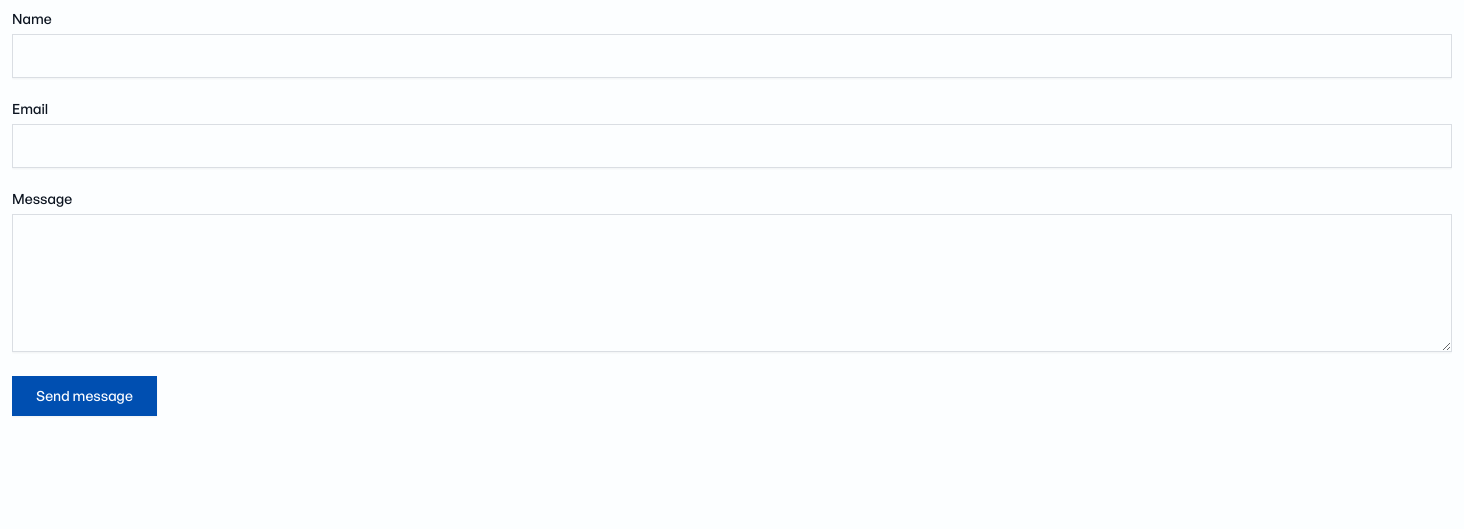
Test: ContactForm › routes a valid submission to the contact confirmation heading
The image size is (1464, 529).
Expected: the button "Send message" is shown, x1=12 y1=376 x2=157 y2=416
Type "Ada Lovelace" into the field labelled "Name" at (732,56), box x1=12 y1=34 x2=1452 y2=78
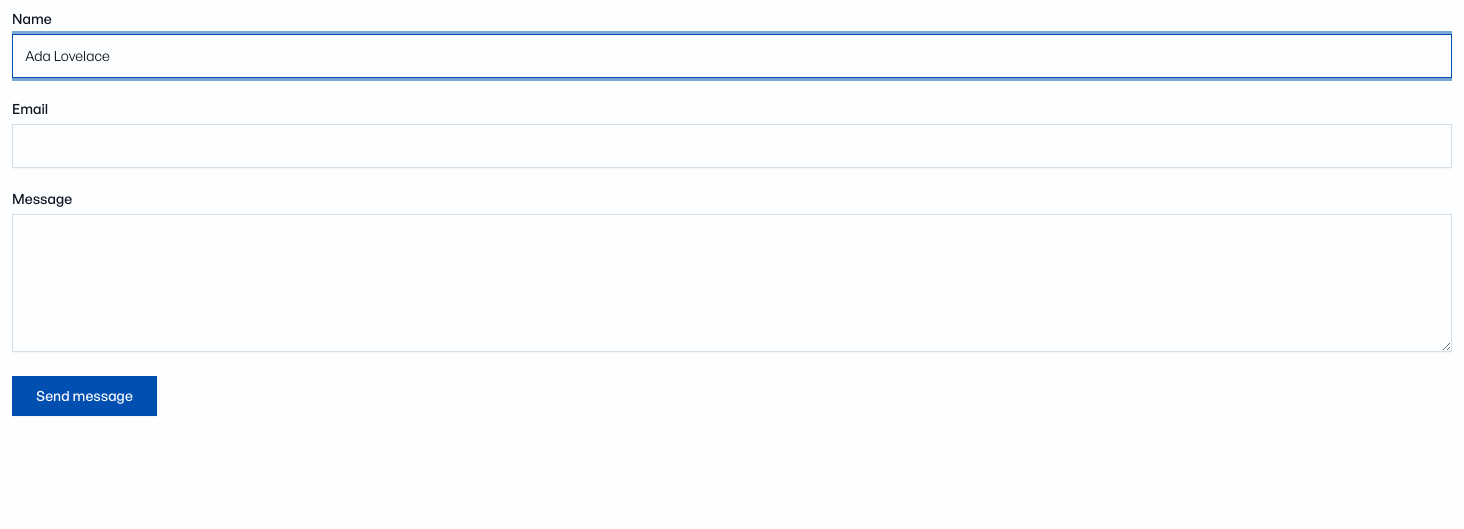
Expected: the button "Send message" is shown, x1=12 y1=376 x2=157 y2=416
Type "ada@example.com" into the field labelled "Email" at (732,146), box x1=12 y1=124 x2=1452 y2=168
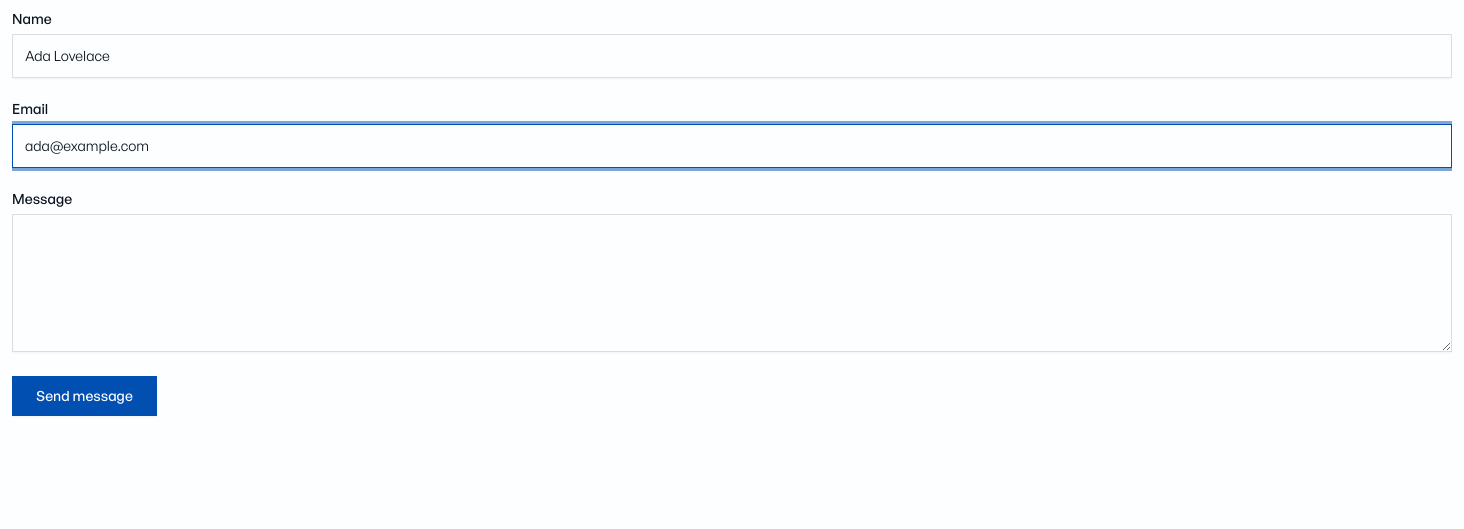
Type "I would like to learn more about your products." into the text box labelled "Message" at (732,283), box x1=12 y1=214 x2=1452 y2=352
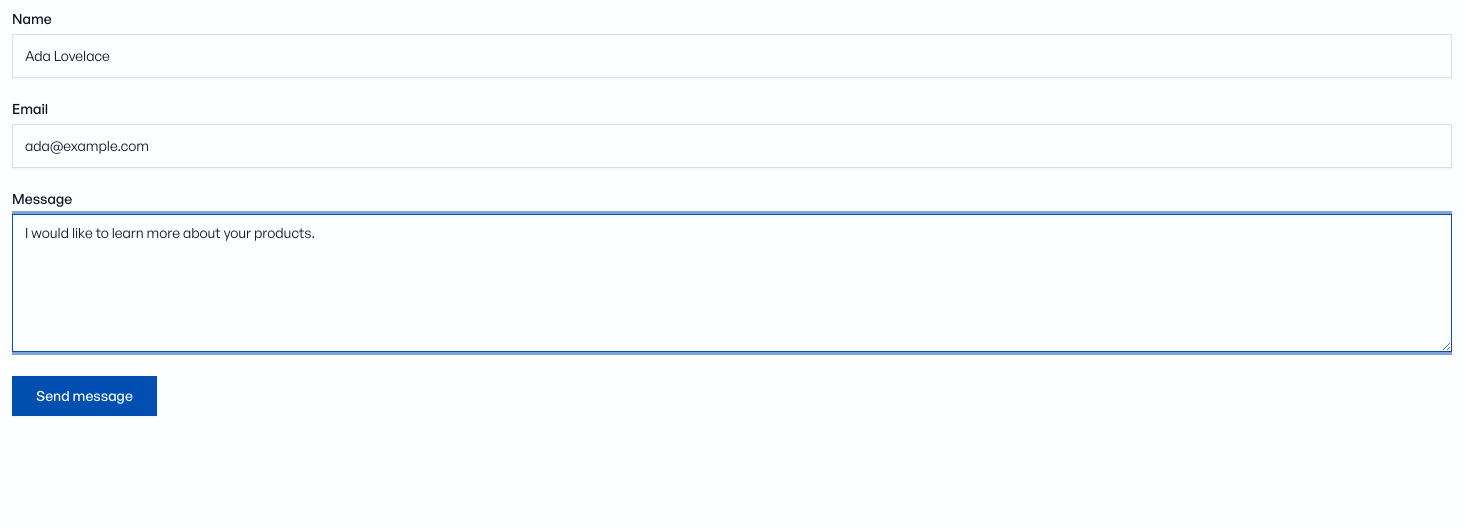
Click the button "Send message" at (84,396), box x1=12 y1=376 x2=157 y2=416
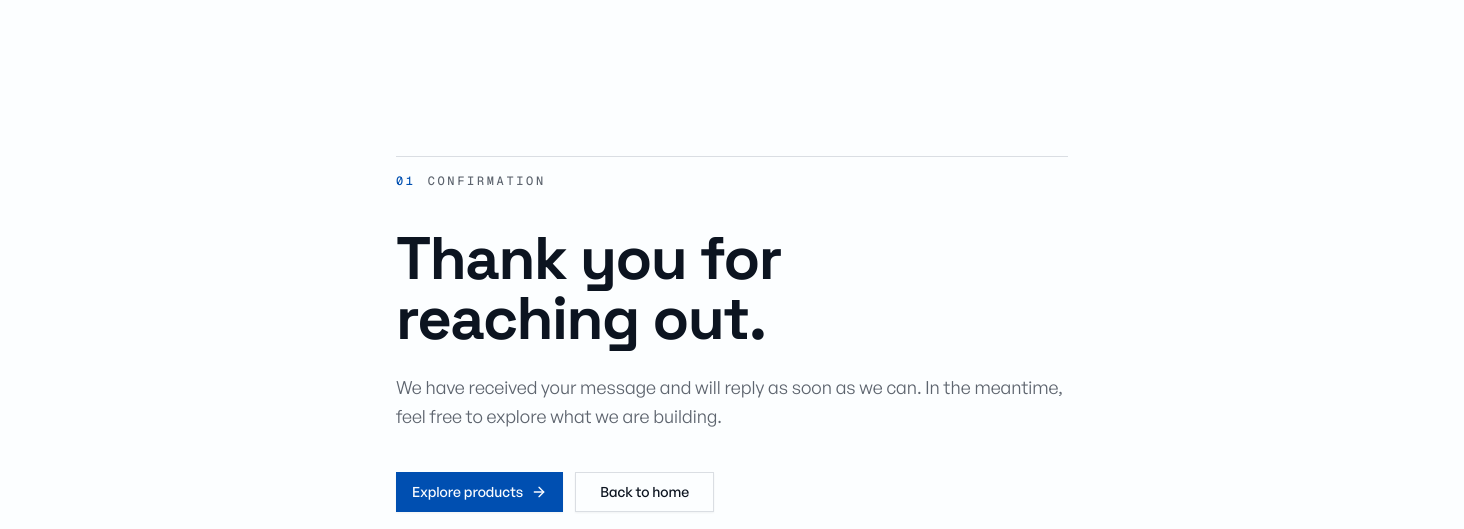
Expected: the heading "Thank you for reaching out." is shown, x1=396 y1=220 x2=781 y2=357
